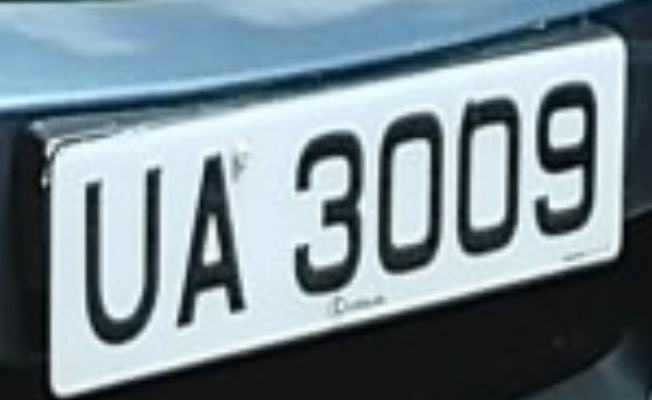0: (368, 84, 458, 289), (448, 76, 535, 270)
3: (281, 95, 375, 316)
9: (525, 71, 606, 255)
A: (165, 133, 259, 345)
U: (70, 147, 172, 359)
